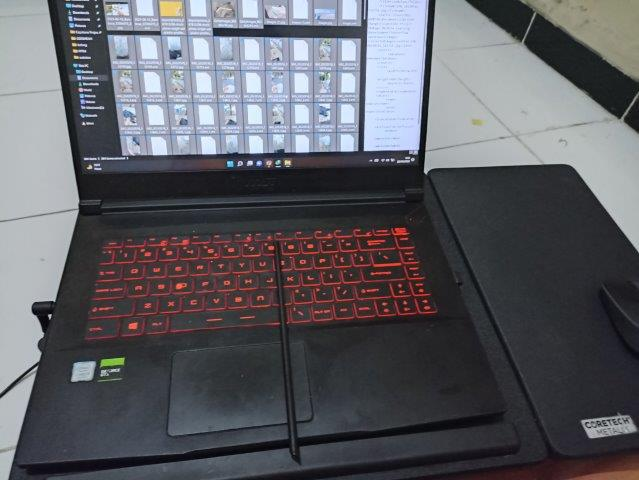sedotan: (274, 242, 297, 459)
